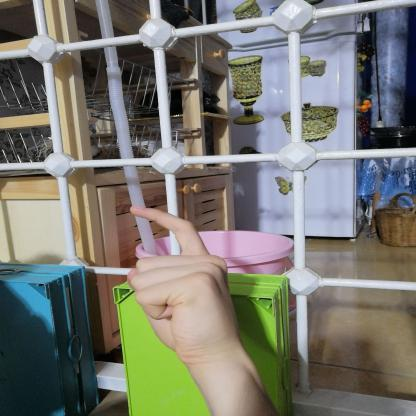RAA: (115, 196, 249, 367)
